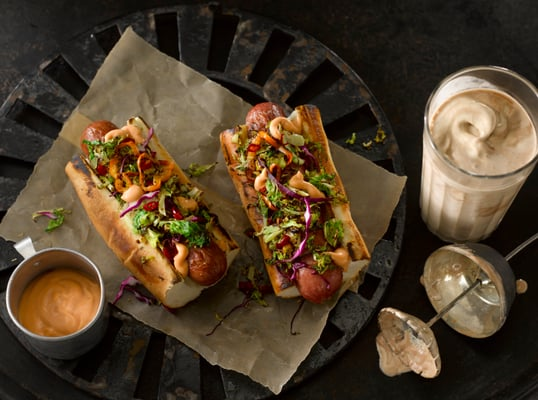sushi: (1, 248, 109, 361)
